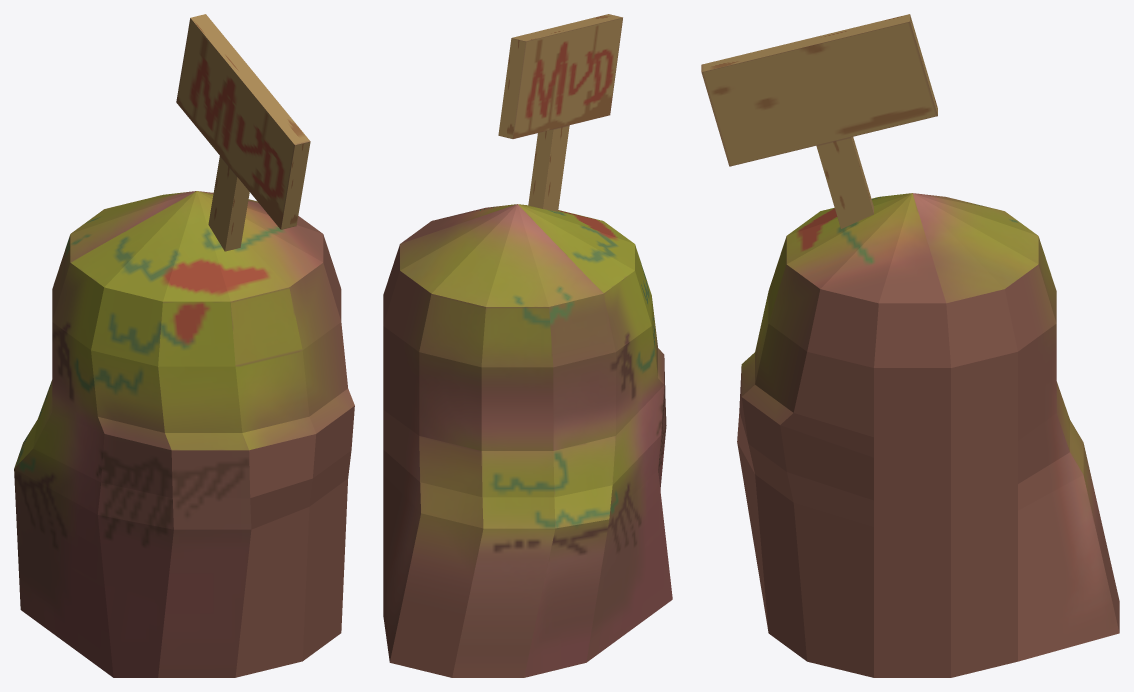
Rendered from Mud Heap.obj.
3 renders of one model, left to right at view 1: azimuth 30°, elevation 25°; view 2: azimuth 150°, elevation 25°; view 3: azimuth 270°, elevation 25°, orthographic. The views are drawn at different scales.
Visible parts, largest first — view 1: cylinder, cube; view 2: cylinder, cube; view 3: cylinder, cube.
Boxes of the visible parts, x1,y1,x2,y2 form: cylinder: (14,191,354,677); cube: (176,14,310,251); cylinder: (383,204,672,677); cube: (498,14,622,211); cylinder: (737,193,1119,677); cube: (701,14,937,228).
Bounding box in the file's own units: 0.5312 × 1.15 × 0.7259.
